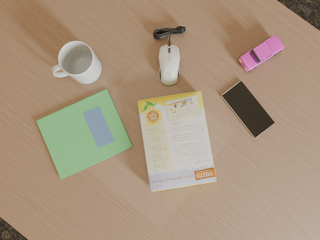book: (37, 89, 133, 179)
box: (137, 91, 216, 192)
cup: (52, 41, 102, 84)
mouse: (159, 43, 180, 85)
phone: (221, 81, 275, 138)
toy_car: (239, 35, 284, 72)
